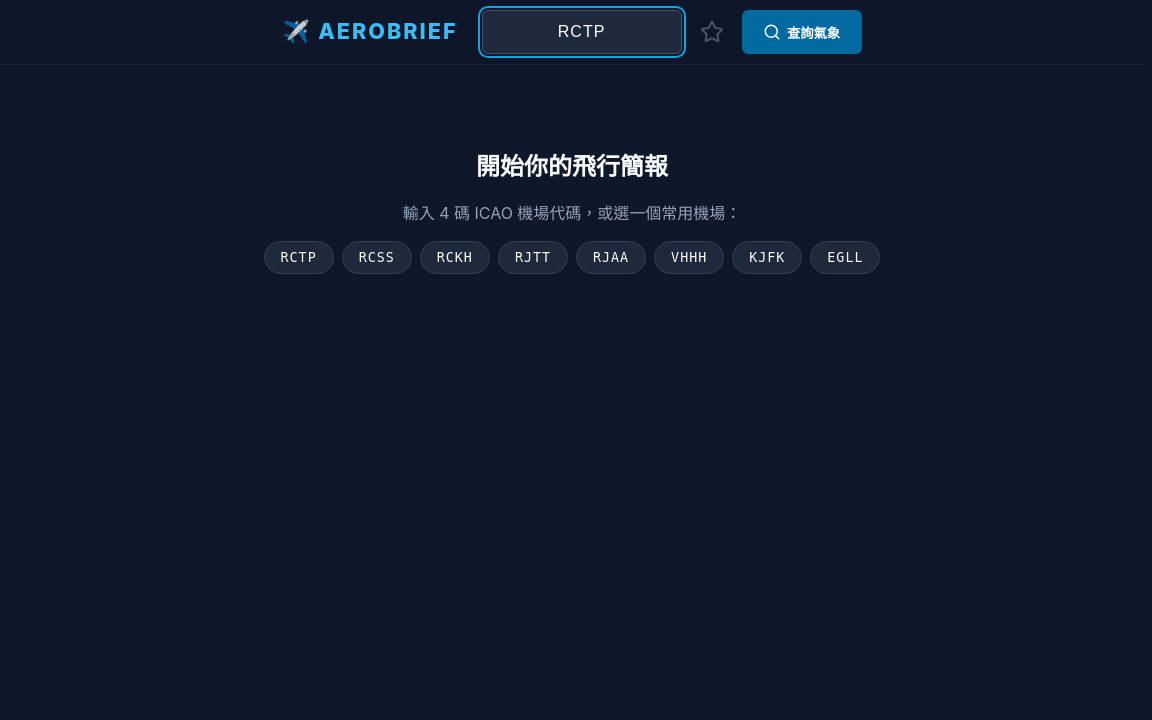
it: closures reach the UI › aerodrome closure raises a clear alert
This screenshot has width=1152, height=720.
Click the button "查詢氣象".
click(802, 32)  # box [742, 10, 862, 54]
(page scrolled)
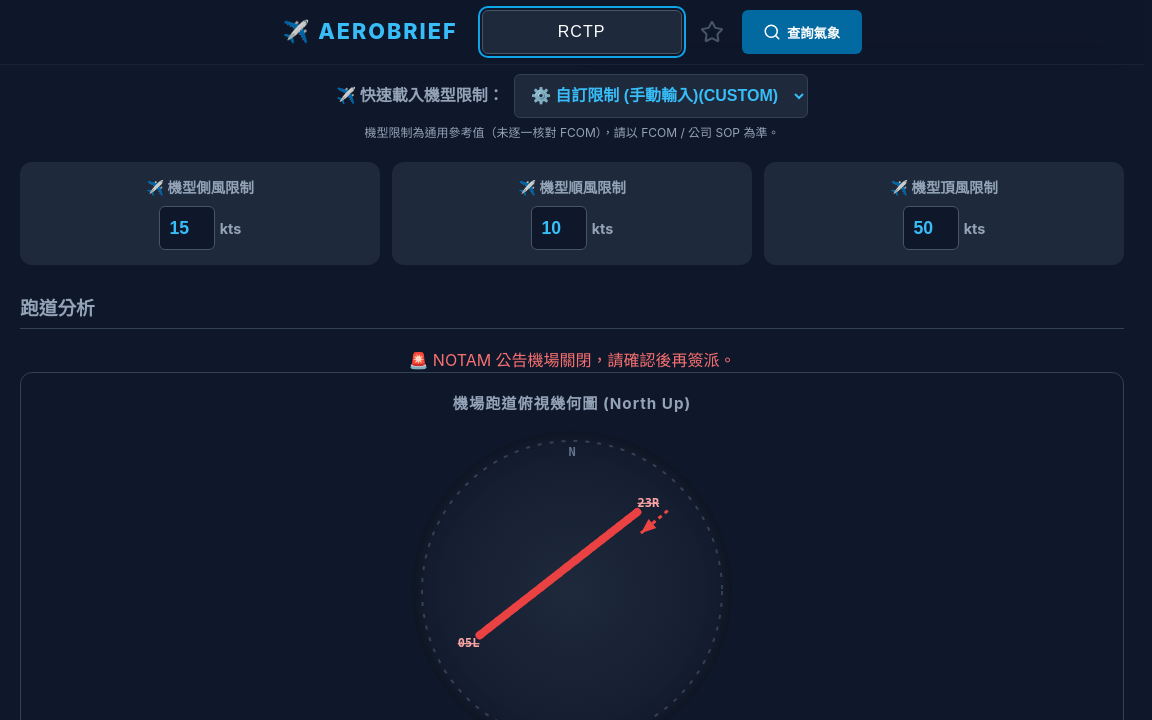
Expected: the message shows "NOTAM 公告機場關閉", [408, 350, 736, 370]
